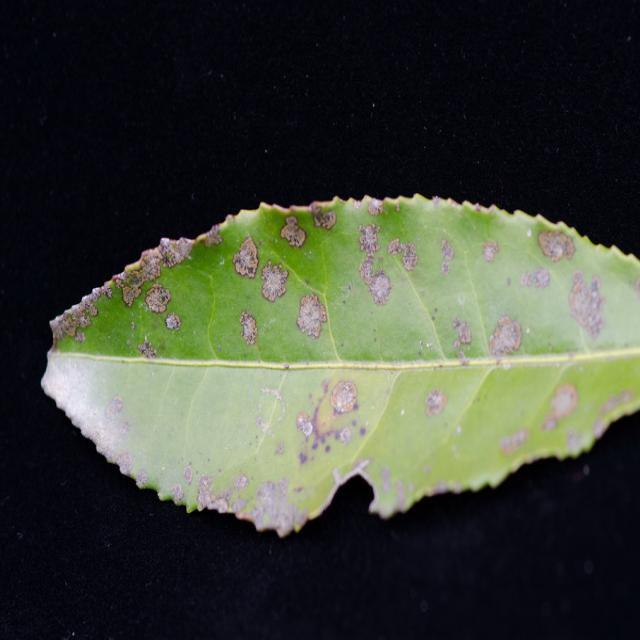Tea red rust: (90, 195, 594, 531)
